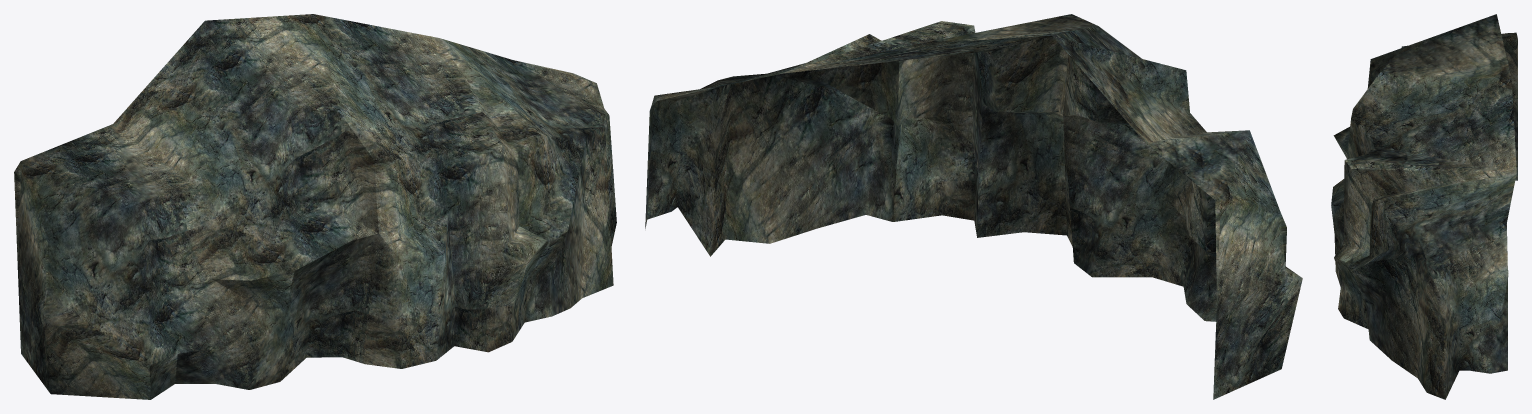
File: cliff_jungle_low.fbx
3 views of the same model, side by side, from view 1: azimuth 30°, elevation 25°; view 2: azimuth 150°, elevation 25°; view 3: azimuth 270°, elevation 25° (orthographic). The views are drawn at different scales.
Parts seen in each view (by area): view 1: high; view 2: high; view 3: high.
Part boxes in pixels (x1,y1,x2,y2): high: (14,14,616,399); high: (645,14,1302,399); high: (1331,14,1517,399).
Size of the model in its own units: 18537 by 9710 by 6567.
1 material, 1 textured.
